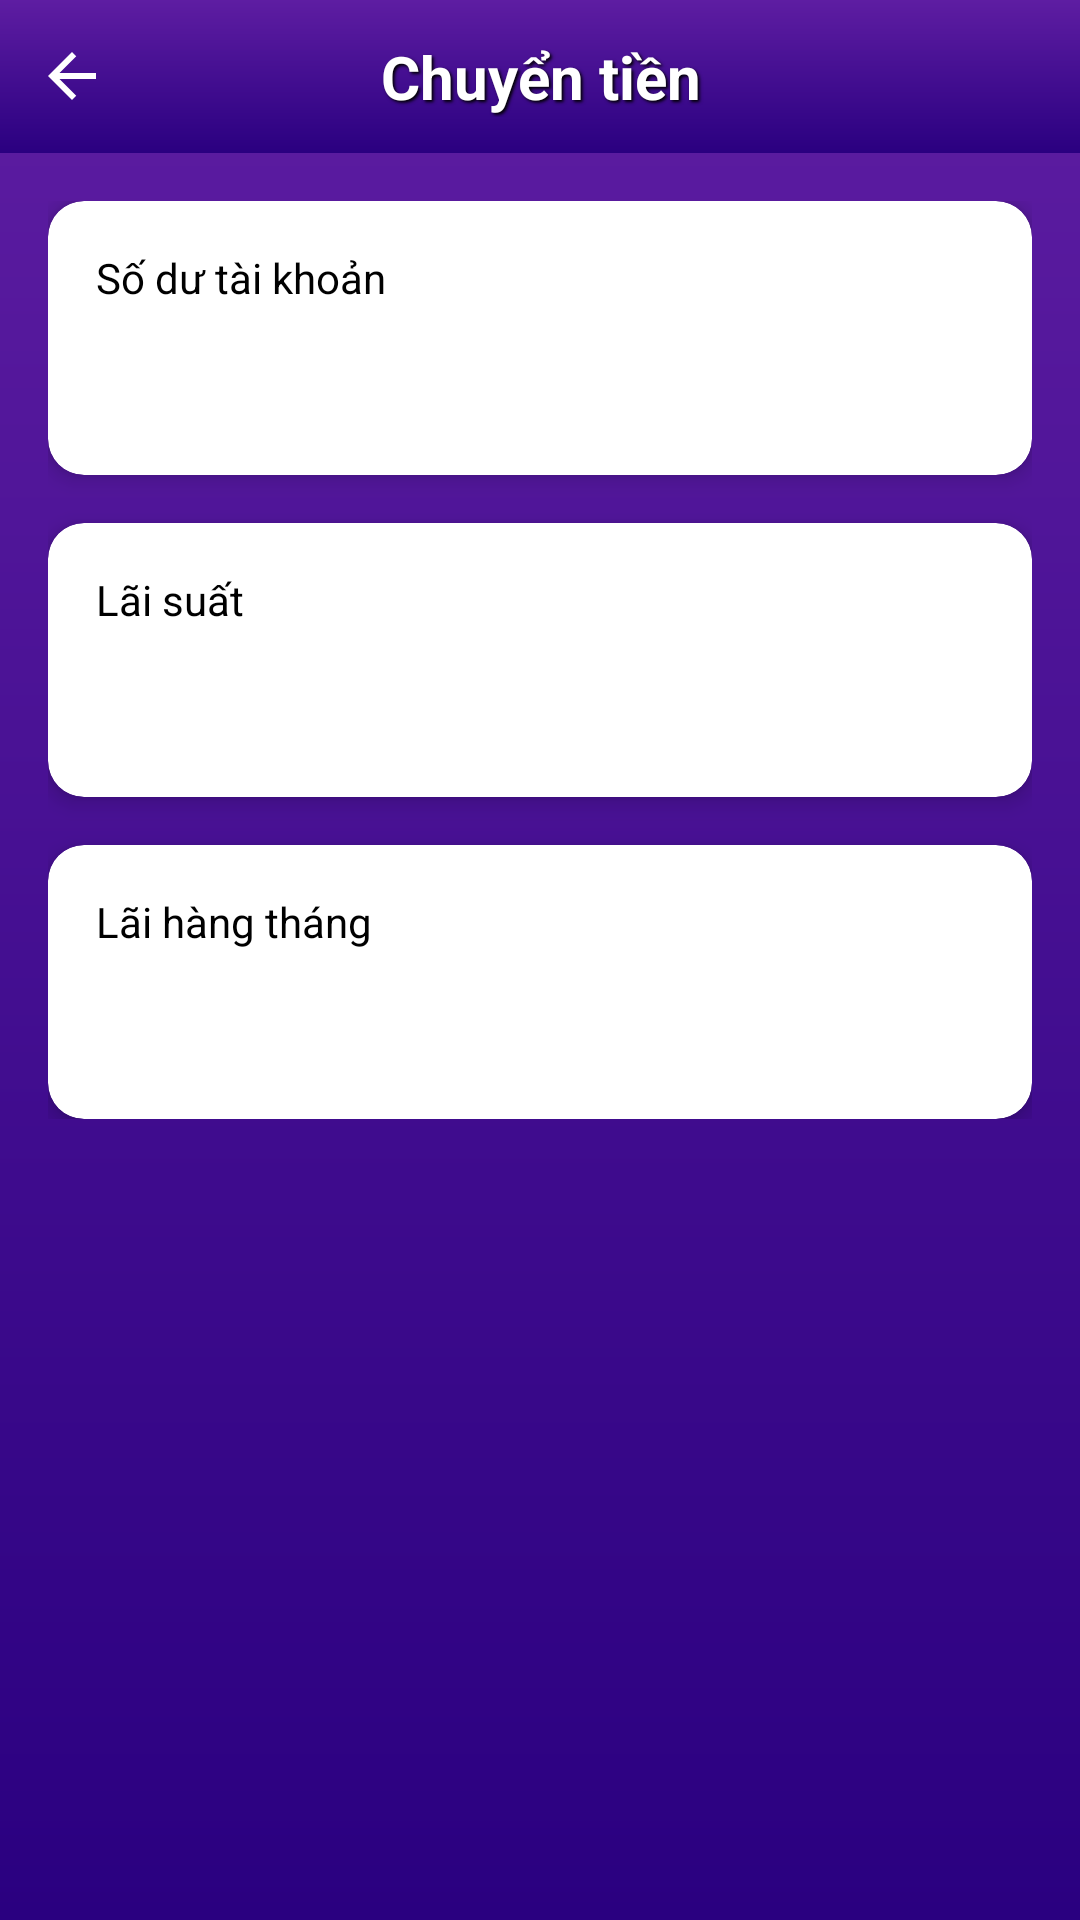

Where icons sit on this 1080w x 1920h app screen, as box(x1, y1, x2, y2):
Back Button: box(36, 40, 108, 100)
